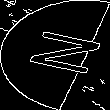N_E: (9, 28, 101, 82)
